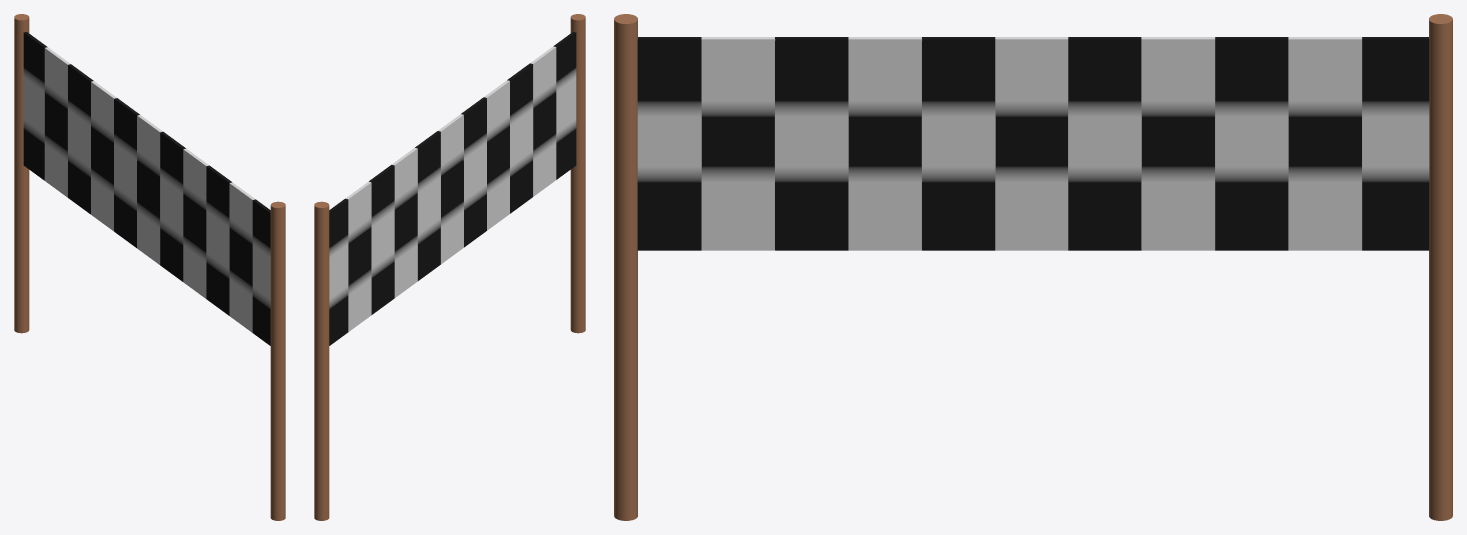
File: flag.fbx
3 views of the same model, side by side, from view 1: azimuth 30°, elevation 25°; view 2: azimuth 150°, elevation 25°; view 3: azimuth 270°, elevation 25° (orthographic). The views are drawn at different scales.
Parts seen in each view (by area): view 1: bendera finish; view 2: bendera finish; view 3: bendera finish.
Part boxes in pixels (box(x1,y1,x2,y2)): bendera finish: box(14, 14, 285, 520); bendera finish: box(314, 14, 585, 520); bendera finish: box(614, 14, 1452, 520).
Size of the model in its own units: 7.63 by 175 by 267.
Materials: 1 (1 with a texture image).
